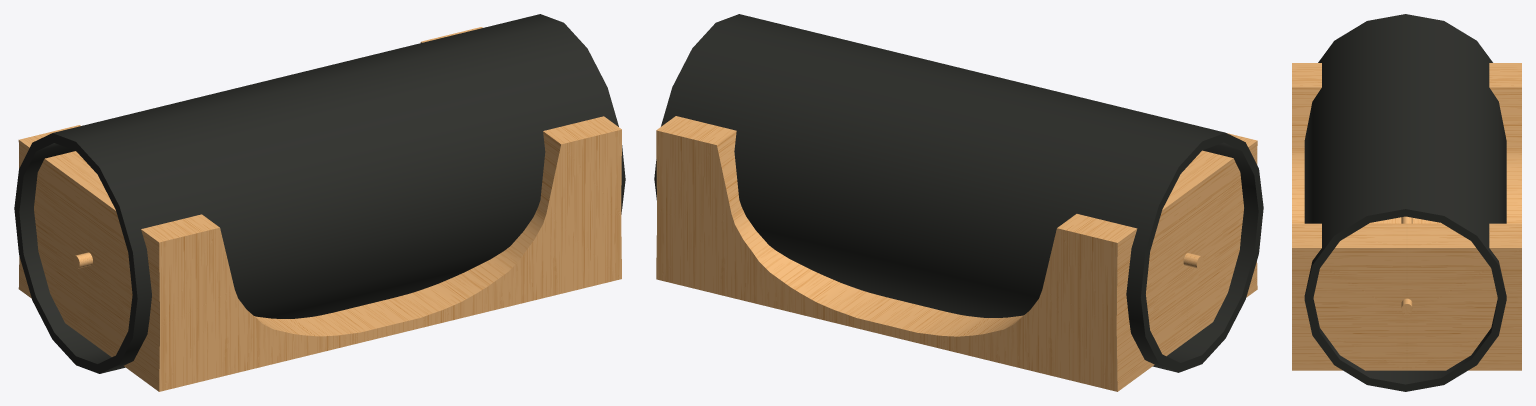
The model's file is TrickStuff.fbx.
3 views of the same model, side by side, from view 1: azimuth 30°, elevation 25°; view 2: azimuth 150°, elevation 25°; view 3: azimuth 270°, elevation 25° (orthographic). The views are drawn at different scales.
Parts seen in each view (by area): view 1: Pipe, Halfpipe; view 2: Pipe, Halfpipe; view 3: Pipe, Halfpipe, Ramp.
Boxes of the visible parts, left/top/right/bottom form: Pipe: left=14, top=14, right=625, bottom=373; Halfpipe: left=18, top=27, right=621, bottom=391; Pipe: left=654, top=14, right=1263, bottom=372; Halfpipe: left=656, top=116, right=1257, bottom=391; Pipe: left=1304, top=14, right=1506, bottom=391; Halfpipe: left=1292, top=63, right=1521, bottom=370; Ramp: left=1369, top=217, right=1441, bottom=223.
Bounding box in the file's own units: 802 × 350 × 398.
